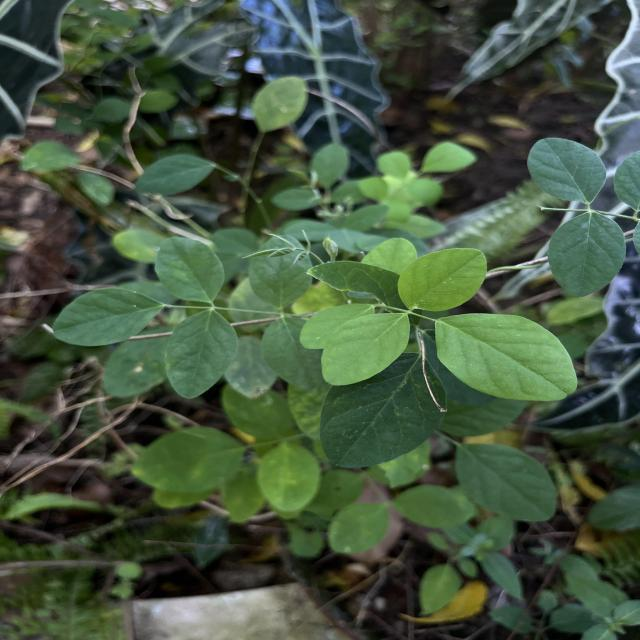Clitoria ternatea: (434, 312, 578, 402), (320, 312, 411, 387), (397, 247, 488, 312)
